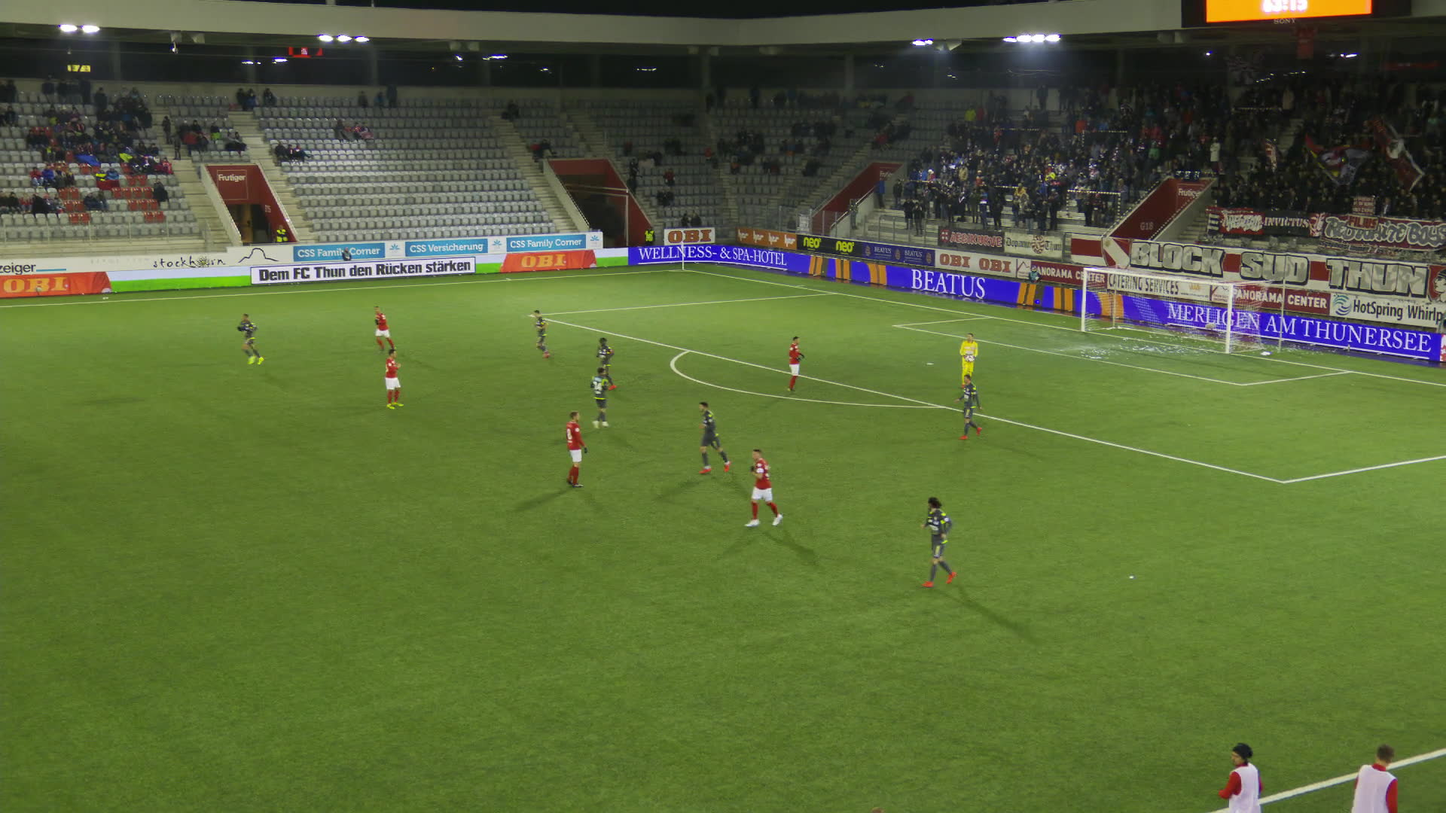ball: (963, 353, 972, 362)
player: (921, 495, 959, 586), (743, 448, 781, 526), (696, 400, 731, 473), (564, 409, 590, 487), (955, 373, 984, 439), (380, 349, 405, 409), (236, 312, 264, 365), (589, 368, 612, 429), (371, 306, 396, 353), (594, 336, 616, 389), (959, 333, 979, 389), (786, 335, 804, 392), (532, 309, 549, 357)
